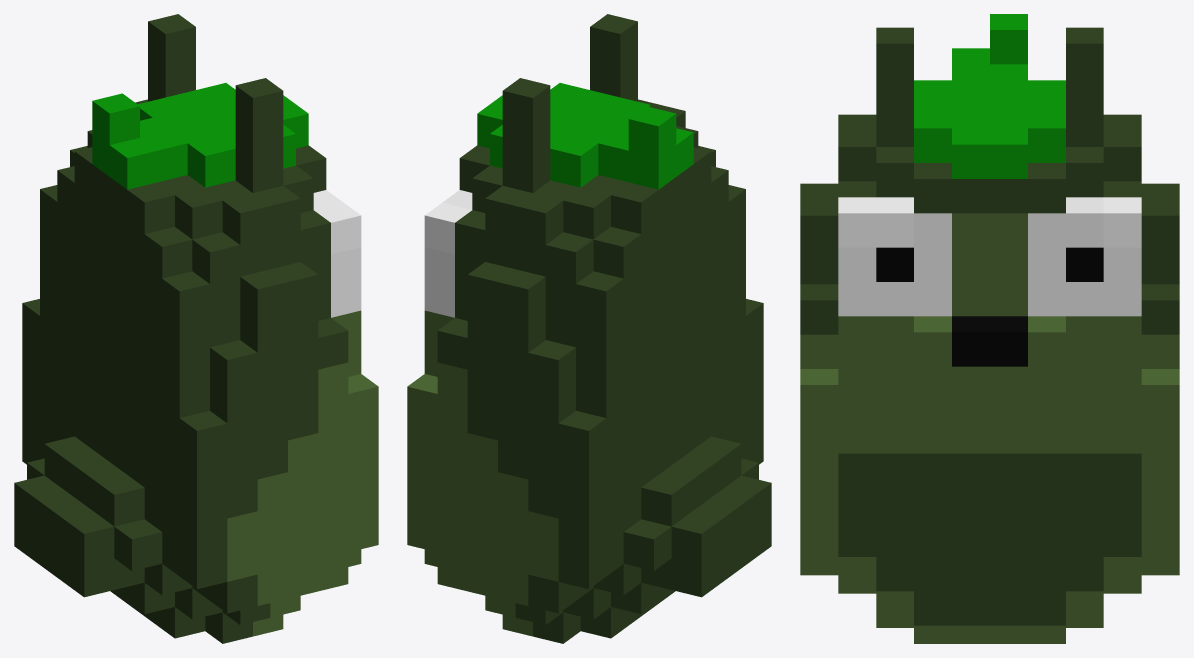
Rendered from leshik.gltf.
The picture shows the model from 3 angles, left to right: view 1: azimuth 30°, elevation 25°; view 2: azimuth 150°, elevation 25°; view 3: azimuth 270°, elevation 25°; orthographic projection. The views are drawn at different scales.
Size of the model in its own units: 9 by 17 by 10.
Materials: 1 (1 with a texture image).
